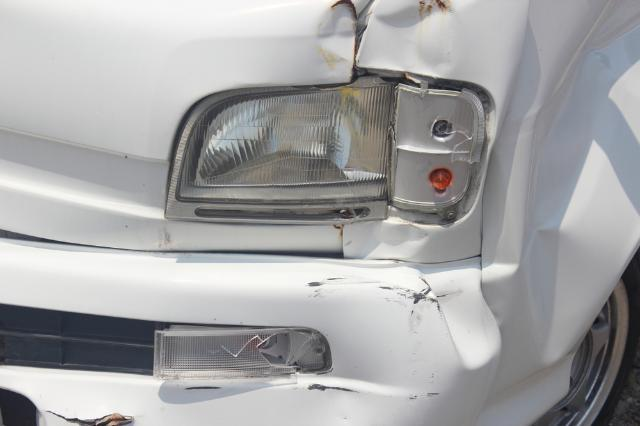crack: (48, 412, 133, 426)
dent: (521, 0, 640, 363), (313, 0, 478, 77), (263, 352, 403, 426), (416, 257, 498, 370), (351, 221, 427, 263)
lamp broken: (177, 78, 488, 217), (154, 326, 333, 381)
scratch: (293, 271, 439, 332)
